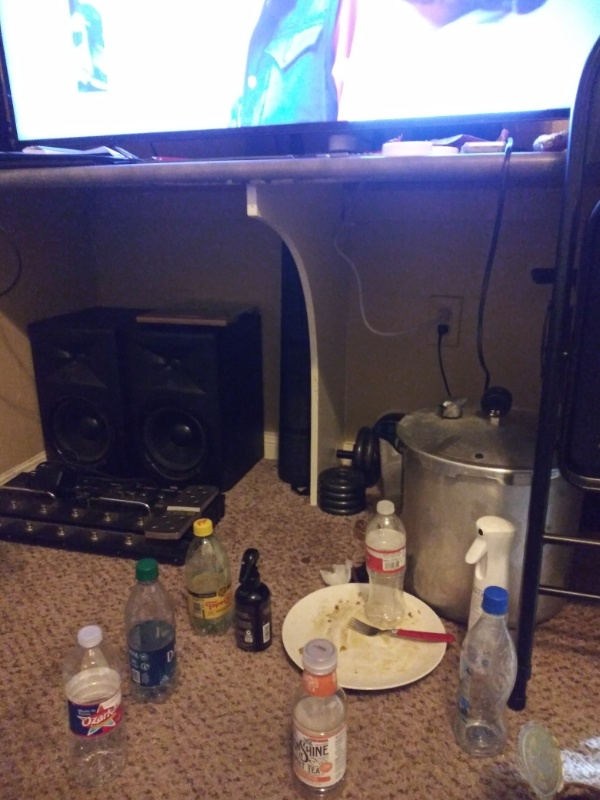bottle: (280, 635, 366, 799), (60, 622, 132, 788), (453, 585, 520, 757), (121, 554, 181, 708), (358, 498, 420, 627), (178, 514, 239, 638)
